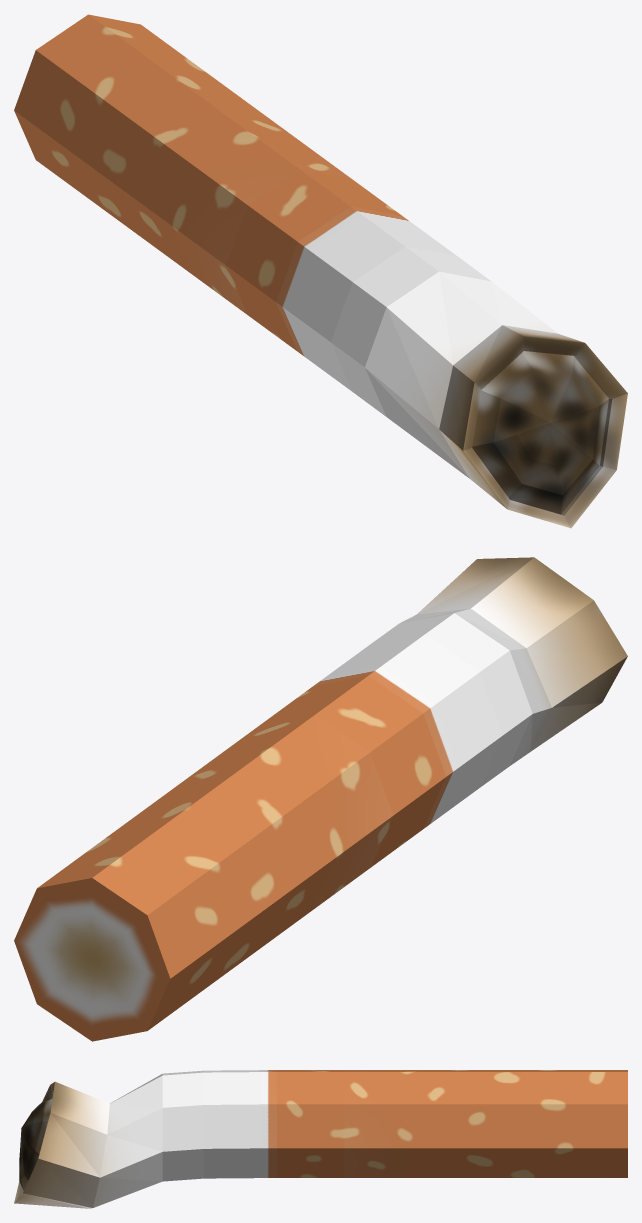
The model's file is cigarette butt 1.obj.
3 views of the same model, one above another, from view 1: azimuth 30°, elevation 25°; view 2: azimuth 150°, elevation 25°; view 3: azimuth 270°, elevation 25° (orthographic). The views are drawn at different scales.
Size of the model in its own units: 1.03 by 1.02 by 4.55.
1 material, 1 textured.
